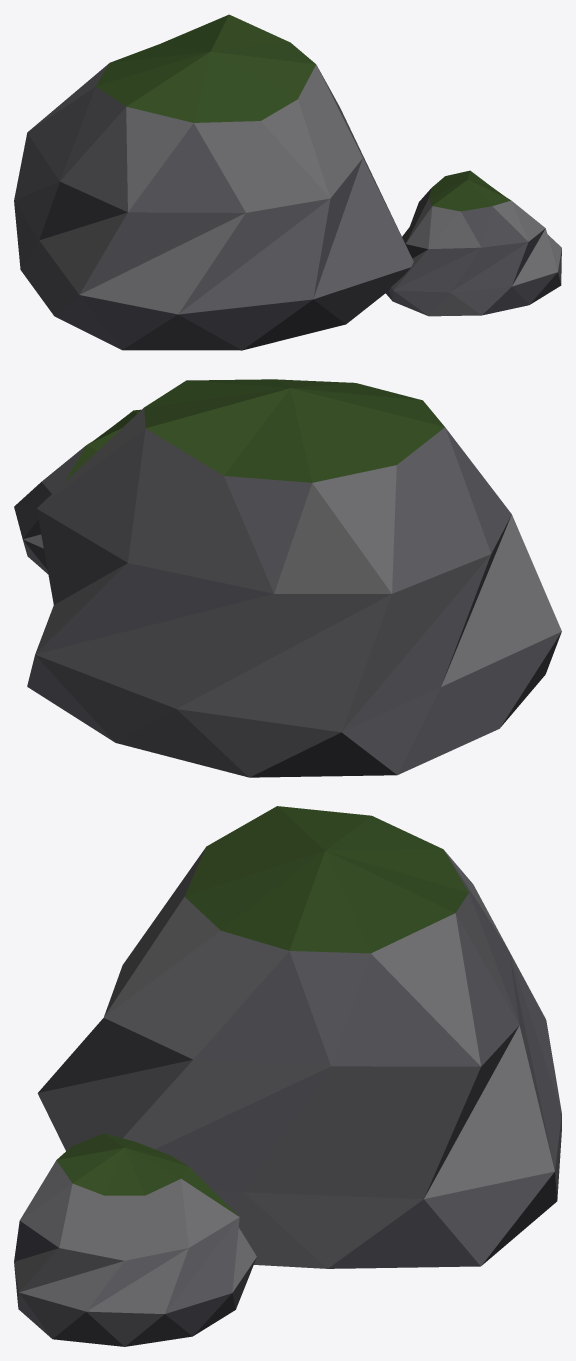
Rendered from boulder_moss.glb.
The picture shows the model from 3 angles, top to bottom: view 1: azimuth 30°, elevation 25°; view 2: azimuth 150°, elevation 25°; view 3: azimuth 270°, elevation 25°; orthographic projection. The views are drawn at different scales.
Parts seen in each view (by area): view 1: boulder_moss2; view 2: boulder_moss2; view 3: boulder_moss2.
Boxes of the visible parts, x1,y1,x2,y2 form: boulder_moss2: [14, 14, 561, 350]; boulder_moss2: [14, 379, 561, 777]; boulder_moss2: [14, 806, 561, 1346].
Bounding box in the file's own units: 1.07 × 0.52 × 0.8196.
